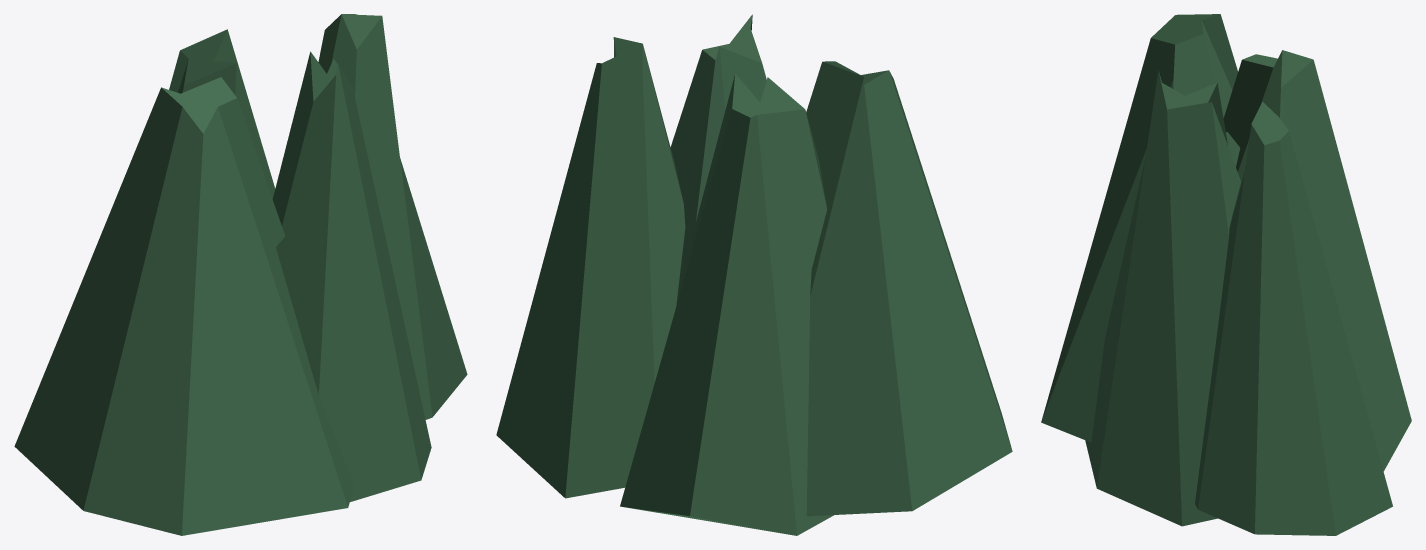
Rendered from bush_juniper.glb.
3 views of the same model, side by side, from view 1: azimuth 30°, elevation 25°; view 2: azimuth 150°, elevation 25°; view 3: azimuth 270°, elevation 25° (orthographic). The views are drawn at different scales.
Parts seen in each view (by area): view 1: Bush_Juniper; view 2: Bush_Juniper; view 3: Bush_Juniper.
Boxes of the visible parts, left/top/right/bottom form: Bush_Juniper: left=14, top=14, right=467, bottom=535; Bush_Juniper: left=496, top=14, right=1012, bottom=535; Bush_Juniper: left=1041, top=14, right=1411, bottom=535.
Size of the model in its own units: 1.69 by 1.55 by 1.28.
